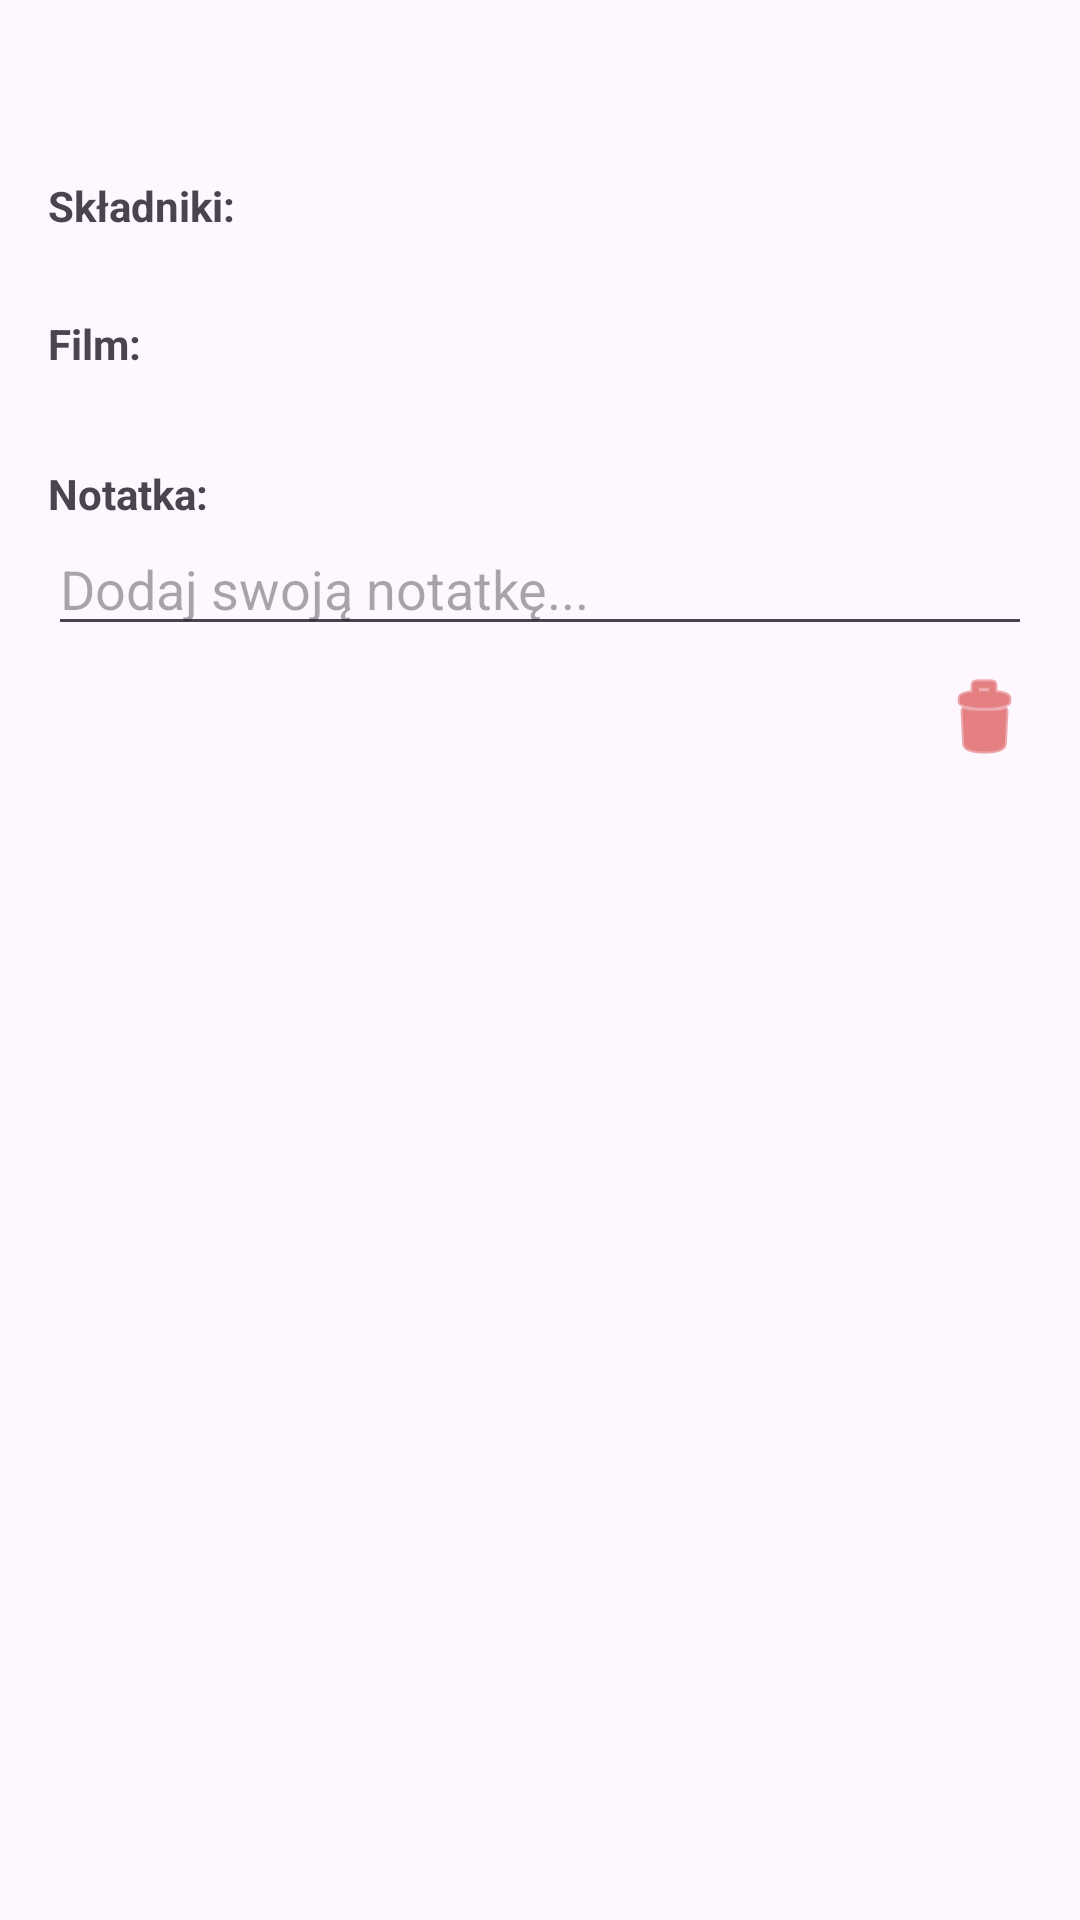

Where to tap for icons on this 1080px x 1920px app screen, as [x,y]:
Usuń przepis: [984,716]
